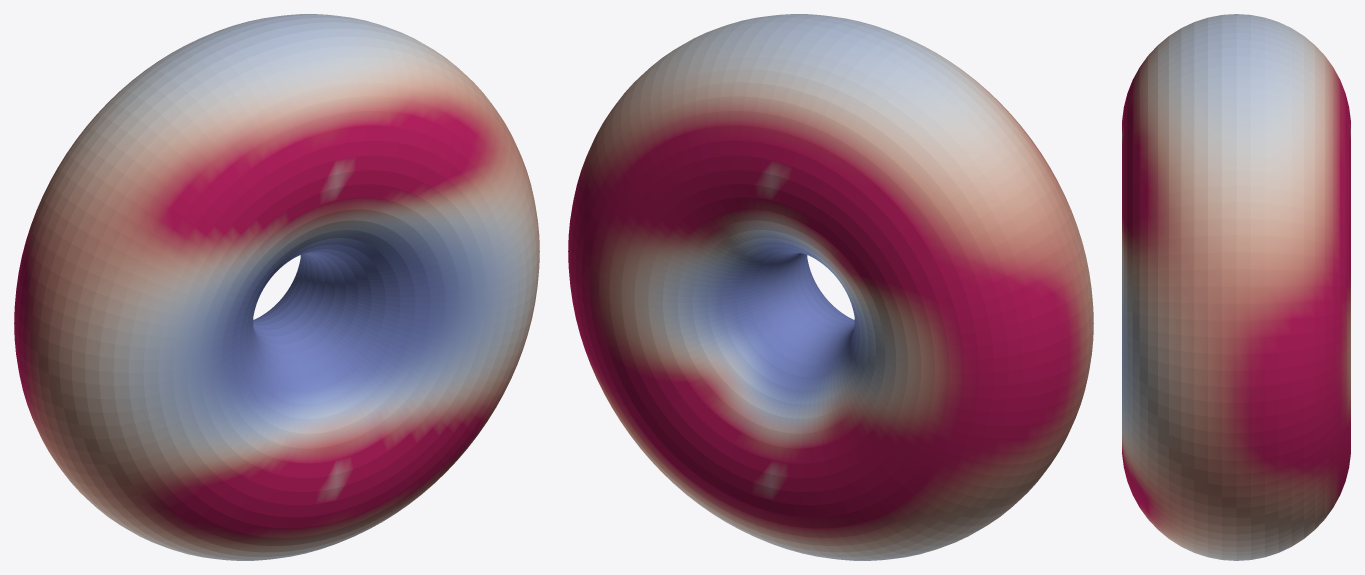
The picture shows the model from 3 angles, left to right: view 1: azimuth 30°, elevation 25°; view 2: azimuth 150°, elevation 25°; view 3: azimuth 270°, elevation 25°; orthographic projection. The views are drawn at different scales.
Visible parts, largest first — view 1: world; view 2: world; view 3: world.
Part boxes in pixels (<box>): world: <box>14,14,539,560</box>; world: <box>568,14,1093,560</box>; world: <box>1122,14,1350,560</box>.
Bounding box in the file's own units: 20.67 × 20.67 × 8.65.
